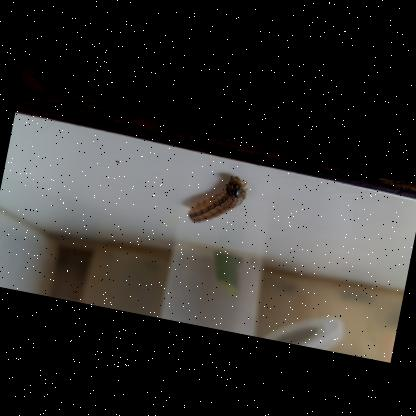Fall Armyworm Larvae: (184, 166, 252, 233)
